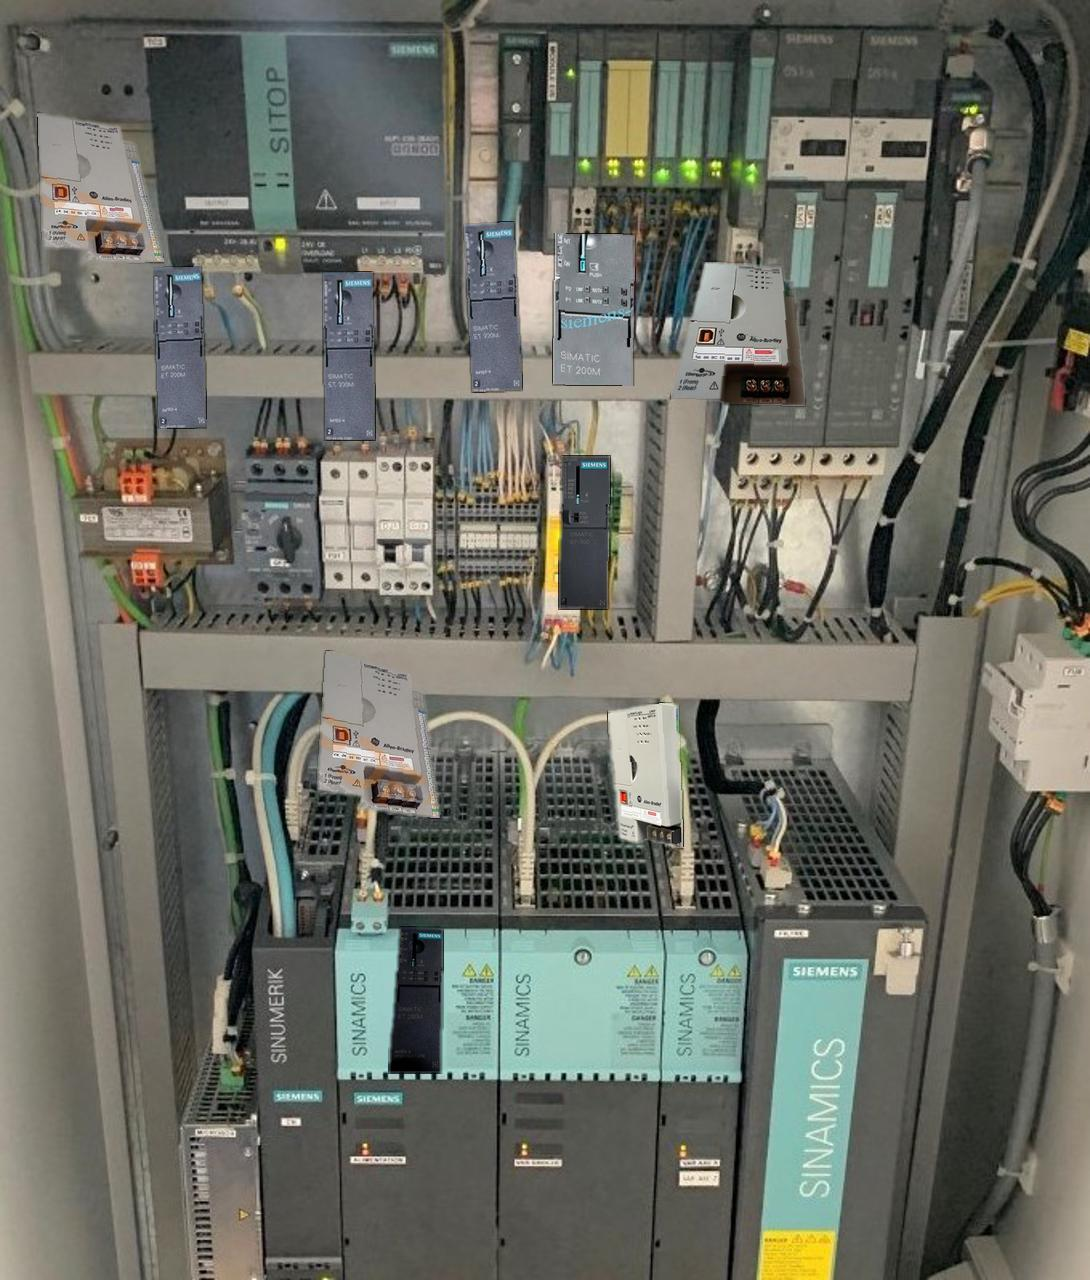AllenBradley: (317, 651, 439, 817), (672, 262, 805, 404), (37, 114, 163, 261), (608, 703, 683, 846)
Siemens: (559, 456, 609, 608)
